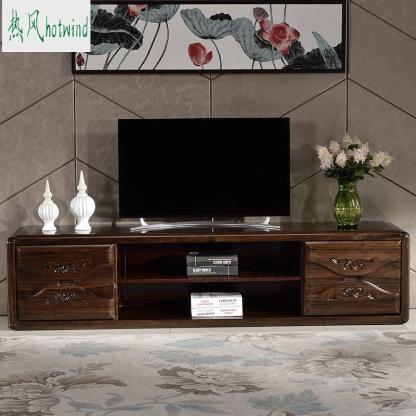TV stand: (5, 220, 412, 332)
